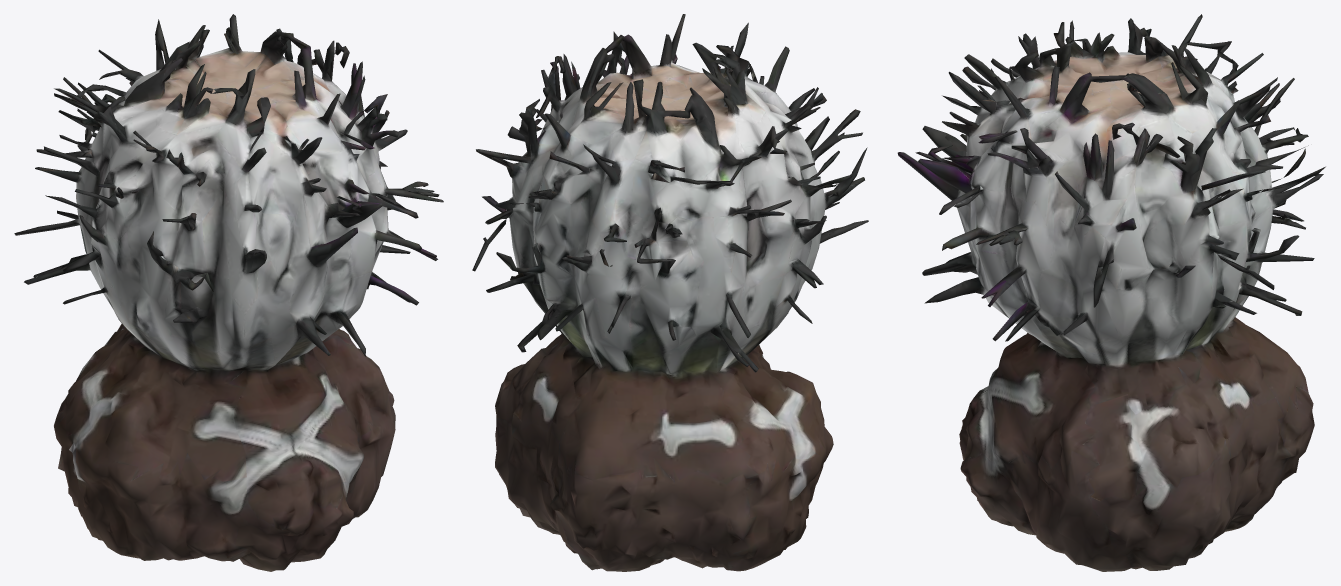
File: Cactaceae.glb
3 renders of one model, left to right at view 1: azimuth 30°, elevation 25°; view 2: azimuth 150°, elevation 25°; view 3: azimuth 270°, elevation 25°, orthographic. The views are drawn at different scales.
Size of the model in its own units: 46876 by 65534 by 53078.
Materials: 1 (1 with a texture image).
